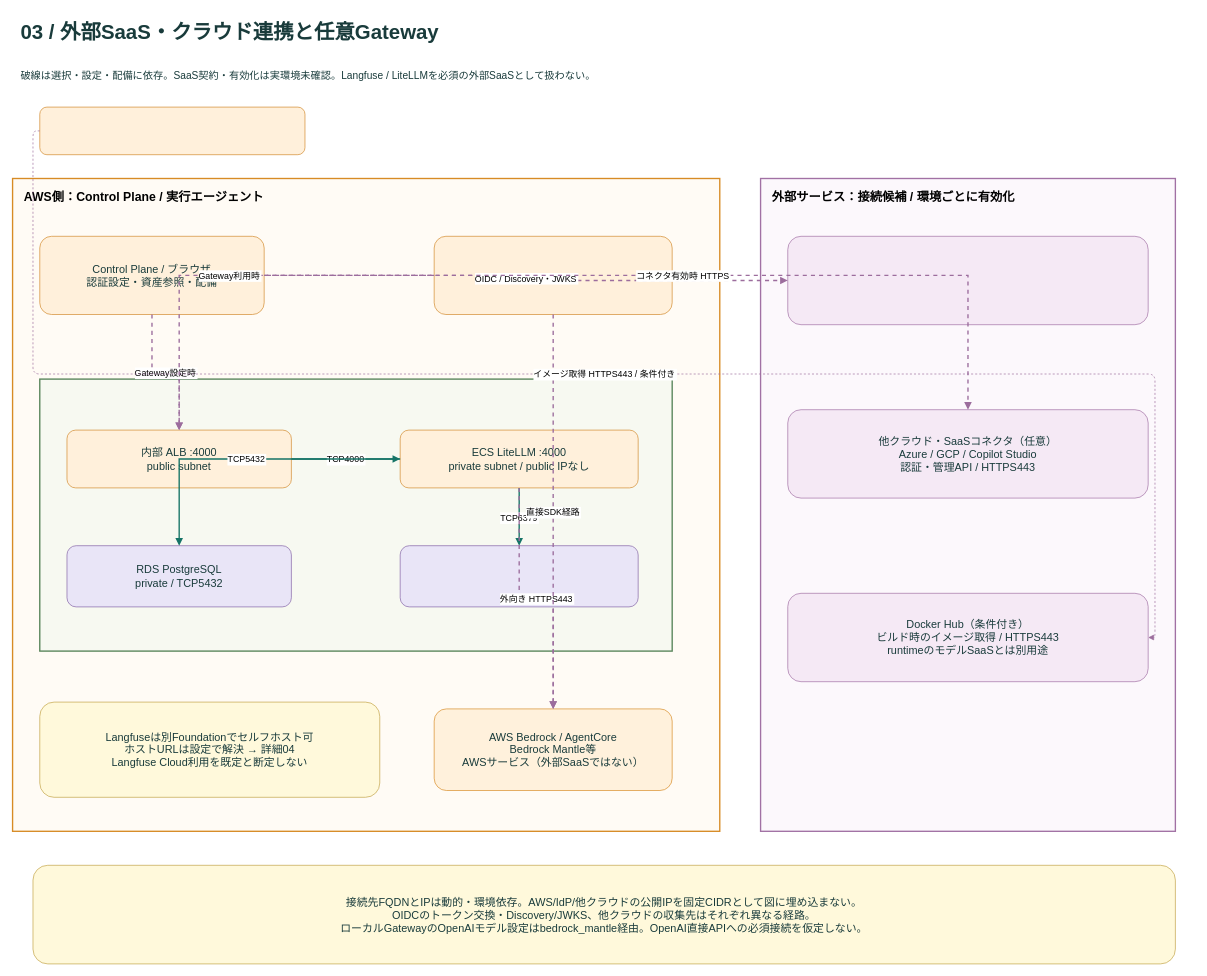
This 1207x976 diagram has some shape labels left out. The shapes that lost their labels are listed below. From the top down, each one's box as (x1, y1, x2, y2) in pixels, then its label:
(39, 106, 305, 155): CodeBuild / ビルド時の取得
(434, 236, 672, 314): 業務エージェント 直接Bedrock、またはGateway
(787, 236, 1148, 325): 外部OIDC IdP（任意・いずれか） Microsoft Entra ID / Okta / Auth0 Generic OIDC / HTTPS443
(39, 378, 673, 651): 任意配備：LiteLLM Gateway（渡されたVPC/subnetを使用）
(400, 545, 638, 607): ElastiCache Redis private / TCP6379
